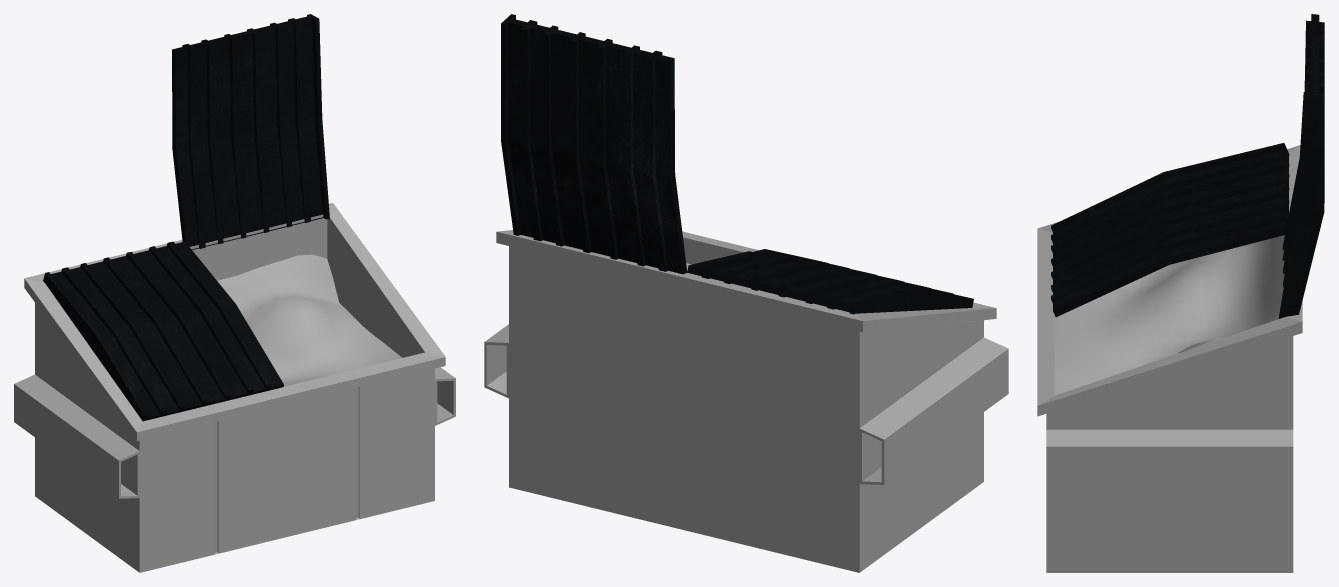
File: ModularPiece_Dumpster.fbx
3 renders of one model, left to right at view 1: azimuth 30°, elevation 25°; view 2: azimuth 150°, elevation 25°; view 3: azimuth 270°, elevation 25°, orthographic. The views are drawn at different scales.
Parts seen in each view (by area): view 1: Dumpster, DumpsterDoor2, DumpsterDoor1; view 2: Dumpster, DumpsterDoor2, DumpsterDoor1; view 3: Dumpster, DumpsterDoor1, DumpsterDoor2.
Boxes of the visible parts, <box> form: Dumpster: <box>14,203,455,572</box>; DumpsterDoor2: <box>172,14,329,249</box>; DumpsterDoor1: <box>43,241,283,421</box>; Dumpster: <box>484,230,1008,572</box>; DumpsterDoor2: <box>501,14,687,274</box>; DumpsterDoor1: <box>687,249,973,314</box>; Dumpster: <box>1037,145,1302,572</box>; DumpsterDoor1: <box>1051,143,1289,317</box>; DumpsterDoor2: <box>1278,14,1324,318</box>.
Bounding box in the file's own units: 2.43 × 2.78 × 1.52.
3 materials, 1 textured.
